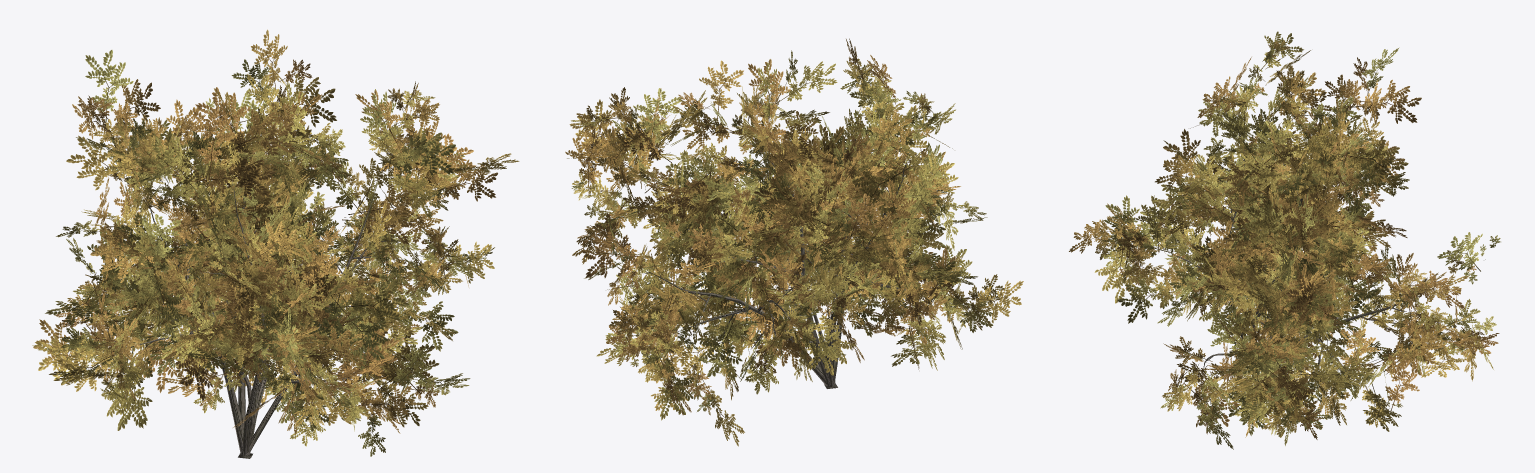
3 renders of one model, left to right at view 1: azimuth 30°, elevation 25°; view 2: azimuth 150°, elevation 25°; view 3: azimuth 270°, elevation 25°, orthographic. The views are drawn at different scales.
Parts seen in each view (by area): view 1: Tree; view 2: Tree; view 3: Tree.
Boxes of the visible parts, <box> form: Tree: <box>32,29,519,458</box>; Tree: <box>565,38,1023,446</box>; Tree: <box>1069,31,1500,449</box>.
Bounding box in the file's own units: 36.54 × 28.66 × 33.95.
2 materials, 2 textured.
